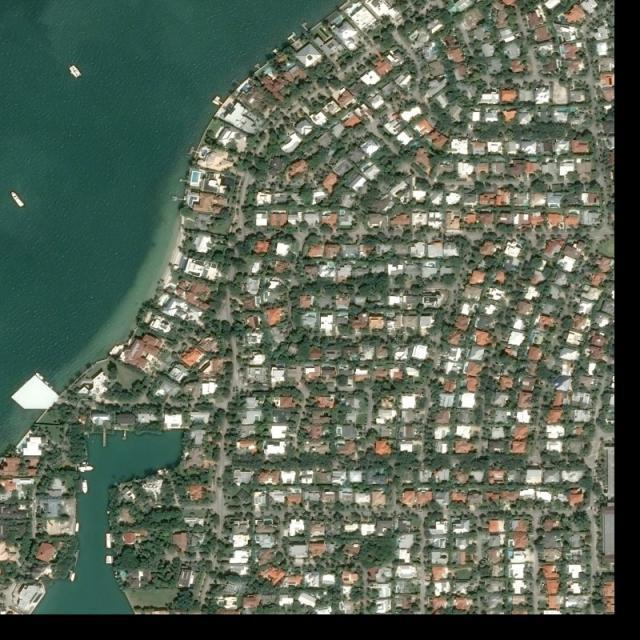ship: (11, 190, 23, 207), (69, 65, 82, 79), (34, 371, 46, 382), (81, 479, 88, 494), (78, 465, 93, 472), (44, 380, 54, 390), (75, 522, 81, 533), (71, 573, 77, 583)
